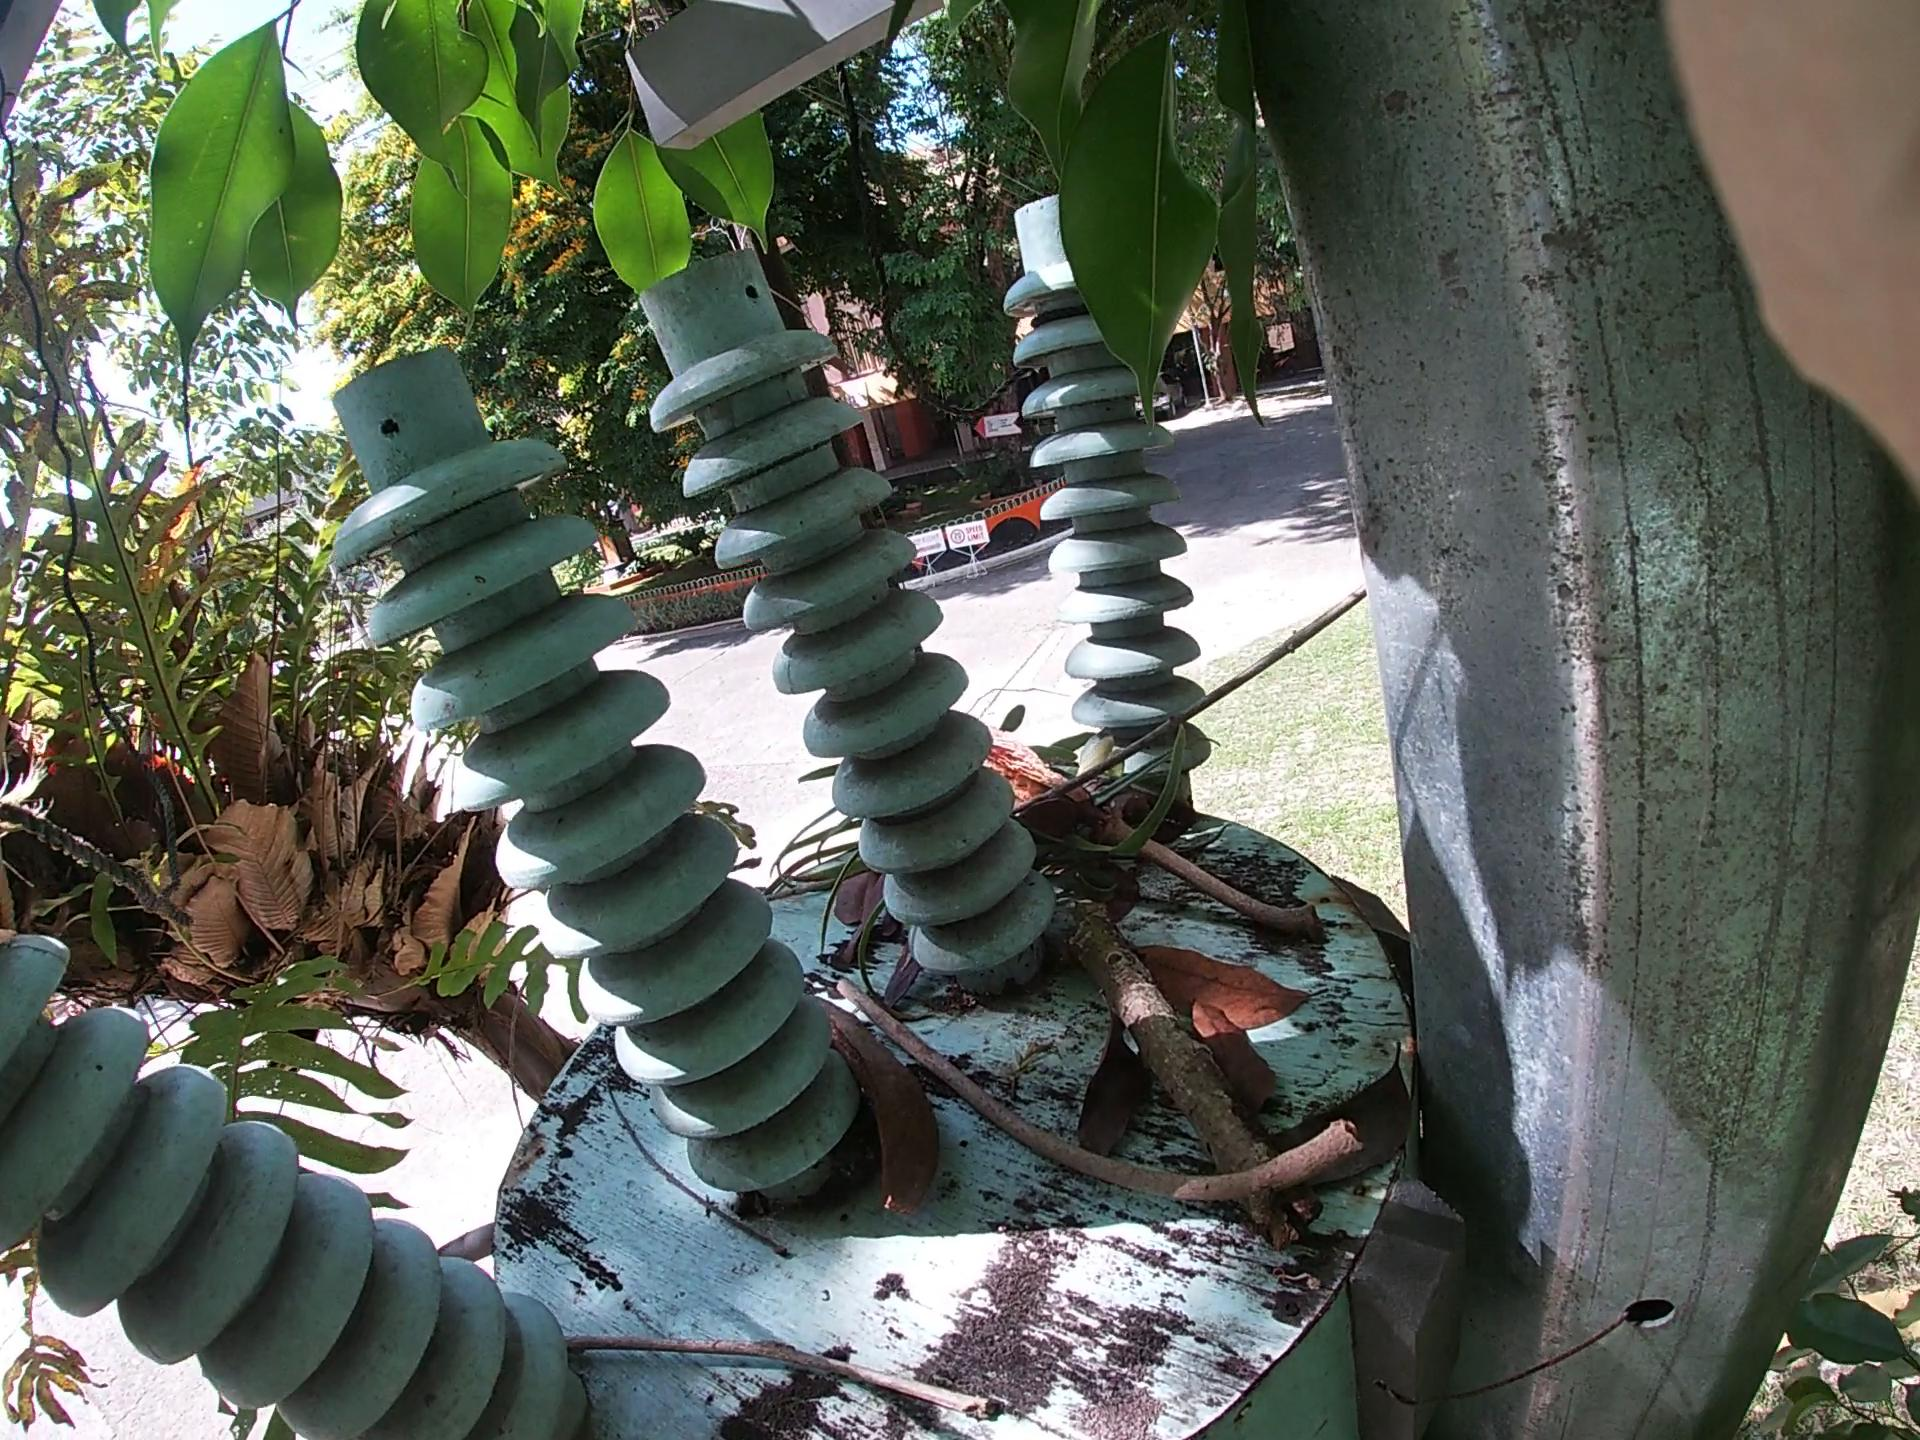branch with leaves: (974, 715, 1530, 1437)
leaf: (1011, 948, 1350, 1153)
tree branch: (774, 886, 1342, 1169), (962, 546, 1361, 853), (974, 709, 1336, 895), (500, 1302, 1034, 1417)
